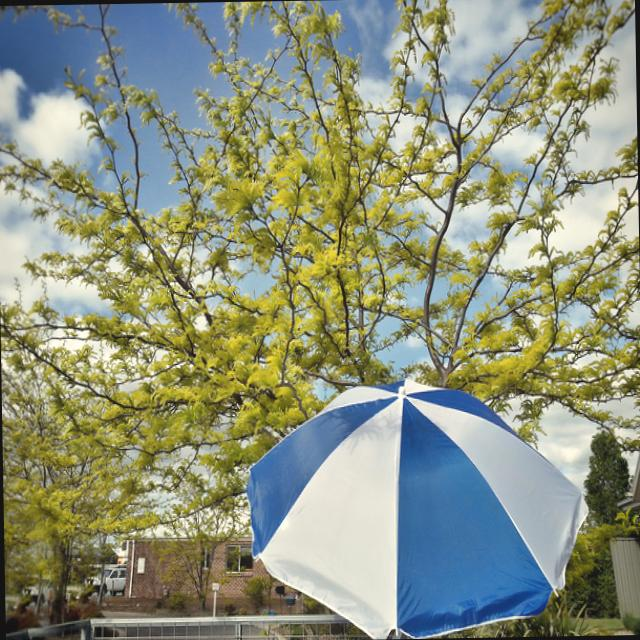Vehicle: (20, 576, 53, 610), (104, 567, 126, 596), (84, 576, 100, 596)
